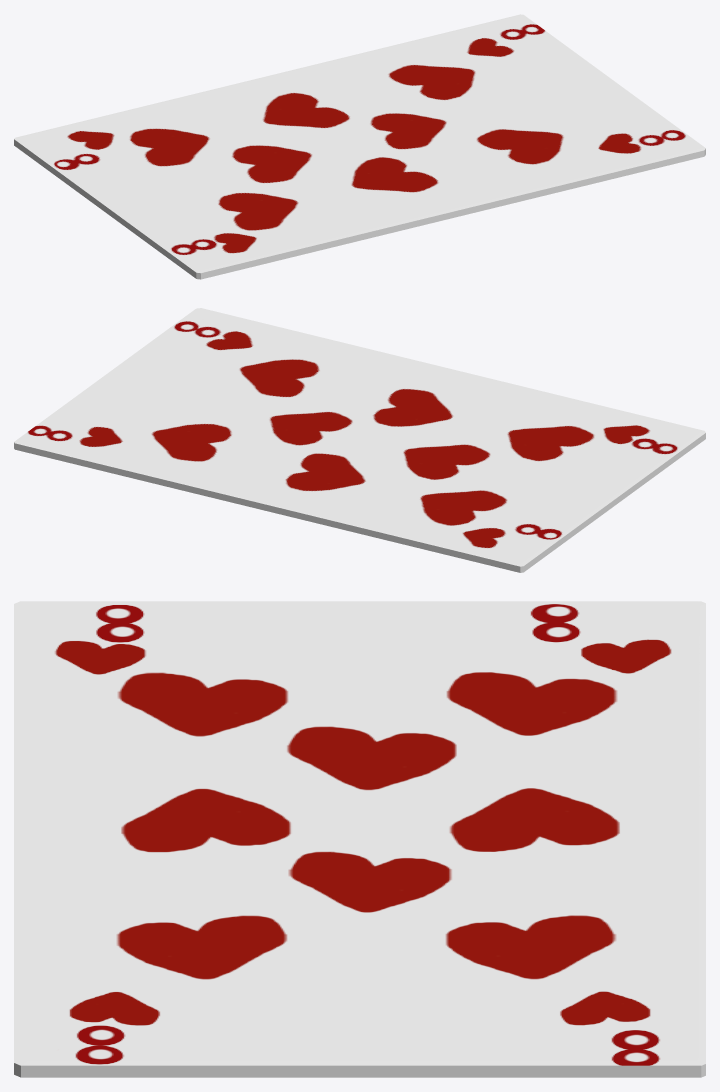
File: 8_Hearts.fbx
3 renders of one model, top to bottom at view 1: azimuth 30°, elevation 25°; view 2: azimuth 150°, elevation 25°; view 3: azimuth 270°, elevation 25°, orthographic. The views are drawn at different scales.
Visible parts, largest first — view 1: card8; view 2: card8; view 3: card8.
Part boxes in pixels (x1=…): card8: x1=14, y1=14, x2=705, y2=279; card8: x1=14, y1=308, x2=705, y2=572; card8: x1=14, y1=601, x2=705, y2=1077.
Size of the model in its own units: 540 by 6.56 by 340.
